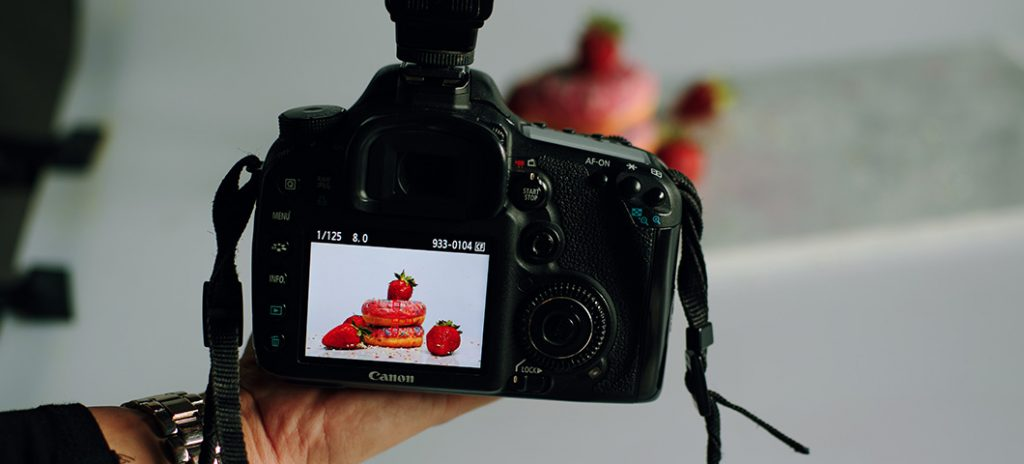camera: (260, 95, 688, 403)
